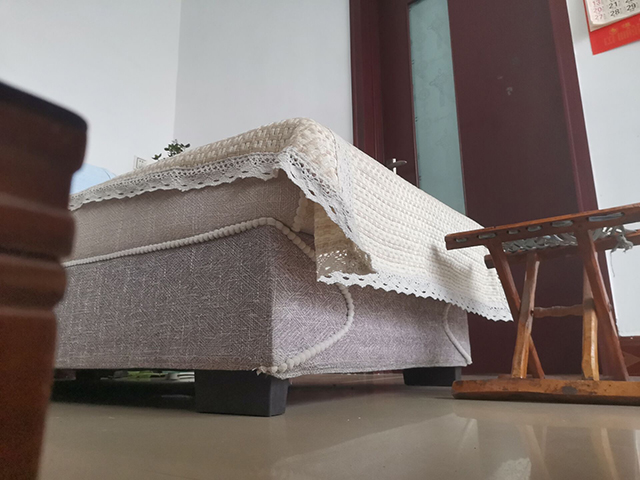bed: (74, 112, 514, 418)
stool: (444, 201, 640, 402)
